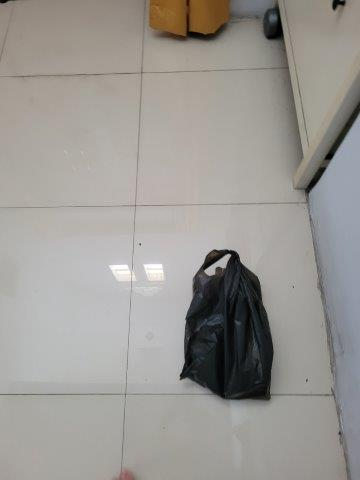plastik: (179, 247, 276, 401)
